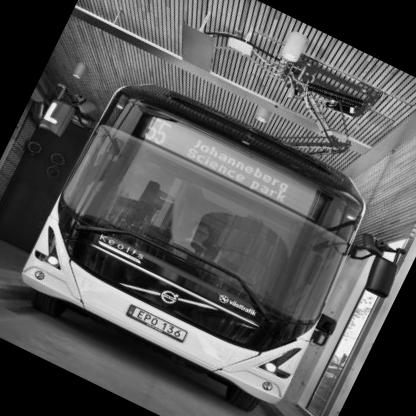bus: (1, 46, 404, 416)
